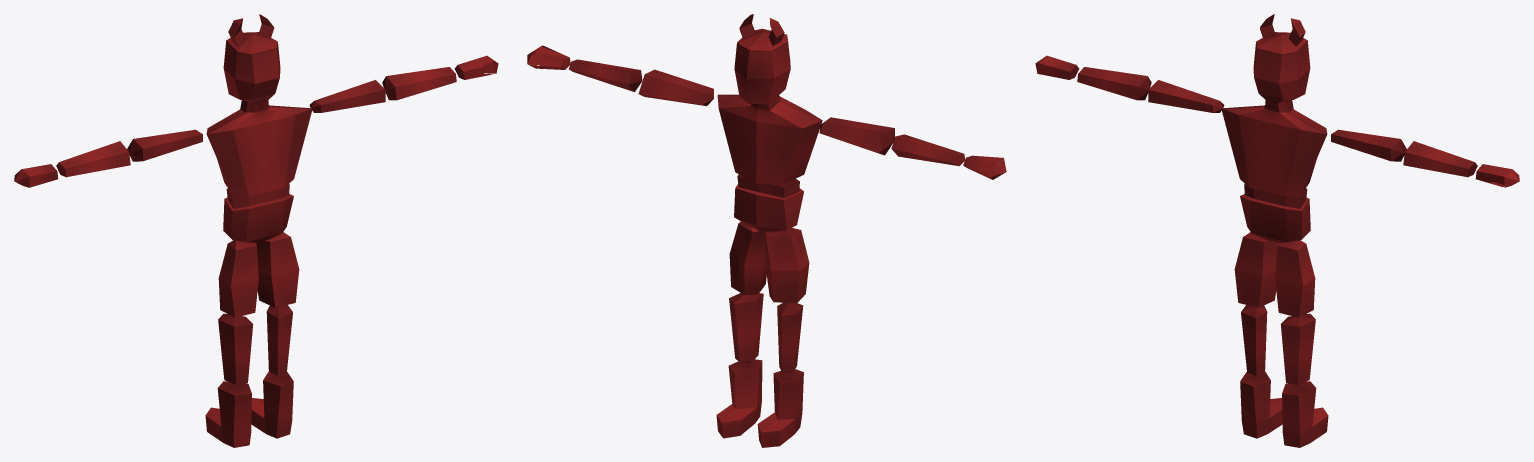
The model's file is demonModel_0.fbx.
The picture shows the model from 3 angles, left to right: view 1: azimuth 30°, elevation 25°; view 2: azimuth 150°, elevation 25°; view 3: azimuth 330°, elevation 25°; orthographic projection.
Visible parts, largest first — view 1: Torso_U, Head, Torso_D, Leg0_L, Leg0_R, Leg2_L, Leg2_R, Leg1_L, Arm2_R_1, Leg1_R, Arm2_R, Arm_L (+3 smaller); view 2: Torso_U, Head, Torso_D, Leg0_L, Leg2_R, Leg2_L, Leg0_R, Leg1_R, Arm_R, Arm_L, Leg1_L, Arm2_R_1 (+3 smaller); view 3: Torso_U, Head, Torso_D, Leg0_R, Leg0_L, Leg2_R, Leg2_L, Leg1_R, Arm2_R, Leg1_L, Arm2_R_1, Arm_R (+3 smaller).
Part boxes in pixels (bbox=[...]): Torso_U: bbox=[206, 100, 312, 196]; Head: bbox=[223, 14, 280, 102]; Torso_D: bbox=[223, 184, 293, 242]; Leg0_L: bbox=[218, 240, 258, 317]; Leg0_R: bbox=[256, 232, 299, 307]; Leg2_L: bbox=[205, 381, 251, 447]; Leg2_R: bbox=[251, 371, 293, 438]; Leg1_L: bbox=[218, 313, 253, 384]; Arm2_R_1: bbox=[382, 67, 456, 100]; Leg1_R: bbox=[266, 305, 292, 375]; Arm2_R: bbox=[59, 141, 130, 177]; Arm_L: bbox=[127, 129, 202, 161]; Torso_U: bbox=[717, 94, 822, 183]; Head: bbox=[734, 14, 790, 104]; Torso_D: bbox=[734, 174, 803, 231]; Leg0_L: bbox=[765, 228, 809, 302]; Leg2_R: bbox=[716, 359, 762, 438]; Leg2_L: bbox=[757, 369, 803, 447]; Leg0_R: bbox=[729, 221, 766, 294]; Leg1_R: bbox=[729, 293, 763, 362]; Arm_R: bbox=[638, 69, 713, 106]; Arm_L: bbox=[819, 117, 894, 155]; Leg1_L: bbox=[777, 302, 803, 372]; Arm2_R_1: bbox=[569, 59, 642, 91]; Torso_U: bbox=[1221, 100, 1327, 196]; Head: bbox=[1253, 14, 1310, 102]; Torso_D: bbox=[1240, 184, 1310, 242]; Leg0_R: bbox=[1275, 240, 1315, 317]; Leg0_L: bbox=[1234, 232, 1277, 307]; Leg2_R: bbox=[1282, 381, 1328, 447]; Leg2_L: bbox=[1240, 371, 1282, 438]; Leg1_R: bbox=[1280, 313, 1315, 384]; Arm2_R: bbox=[1077, 67, 1151, 100]; Leg1_L: bbox=[1241, 305, 1267, 375]; Arm2_R_1: bbox=[1403, 141, 1477, 177]; Arm_R: bbox=[1331, 129, 1406, 161].
Bounding box in the file's own units: 291 × 240 × 38.
Materials: 14 (14 with a texture image).
